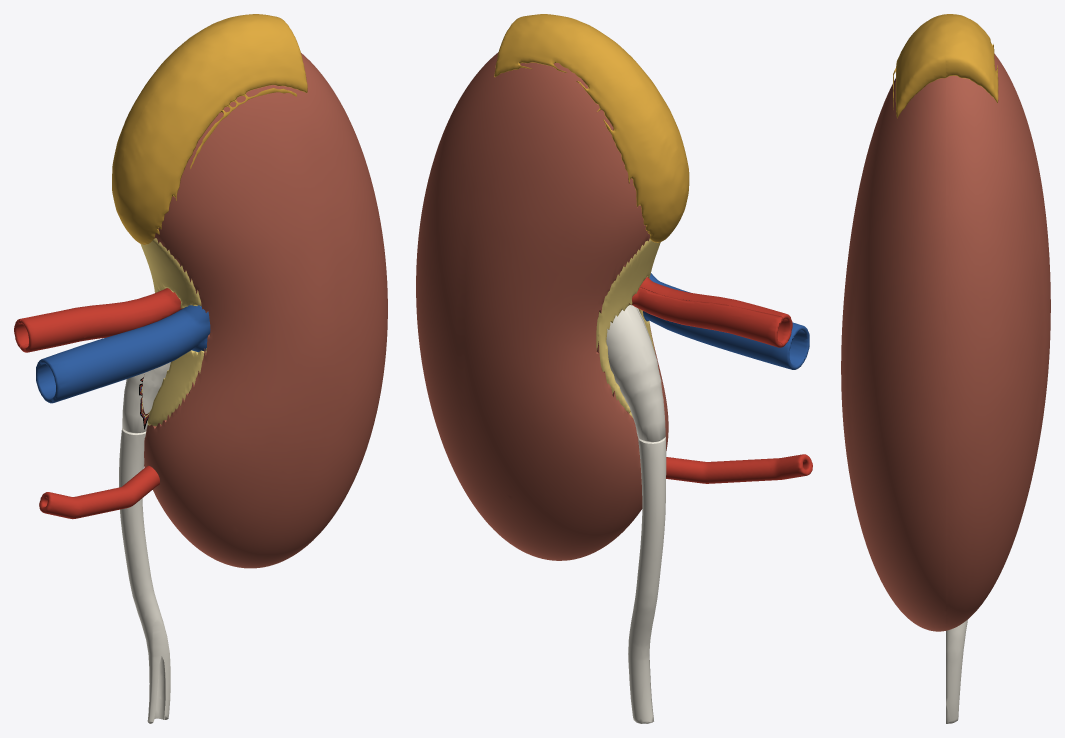
File: kidney_accessory_artery_coronal.glb
3 views of the same model, side by side, from view 1: azimuth 30°, elevation 25°; view 2: azimuth 150°, elevation 25°; view 3: azimuth 270°, elevation 25° (orthographic). The views are drawn at different scales.
Parts seen in each view (by area): view 1: anterior_half, ureter, adrenal_gland, renal_pelvis; view 2: renal_cortex, adrenal_gland, anterior_half, ureter, renal_pelvis, renal_artery, renal_sinus; view 3: anterior_half, renal_cortex, adrenal_gland, ureter.
Part boxes in pixels (<box>): anterior_half: <box>20,18,387,568</box>; ureter: <box>119,428,170,723</box>; adrenal_gland: <box>112,14,283,240</box>; renal_pelvis: <box>122,373,149,433</box>; renal_cortex: <box>416,52,649,560</box>; adrenal_gland: <box>494,15,684,242</box>; anterior_half: <box>522,14,812,551</box>; ureter: <box>628,437,666,723</box>; renal_pelvis: <box>606,305,665,442</box>; renal_artery: <box>629,287,782,347</box>; renal_sinus: <box>596,238,656,417</box>; anterior_half: <box>841,14,945,631</box>; renal_cortex: <box>946,53,1050,630</box>; adrenal_gland: <box>946,14,998,102</box>; ureter: <box>946,619,967,723</box>.
Bounding box in the file's own units: 7.91 × 14.23 × 3.66.
Materials: 1 (1 with a texture image).
